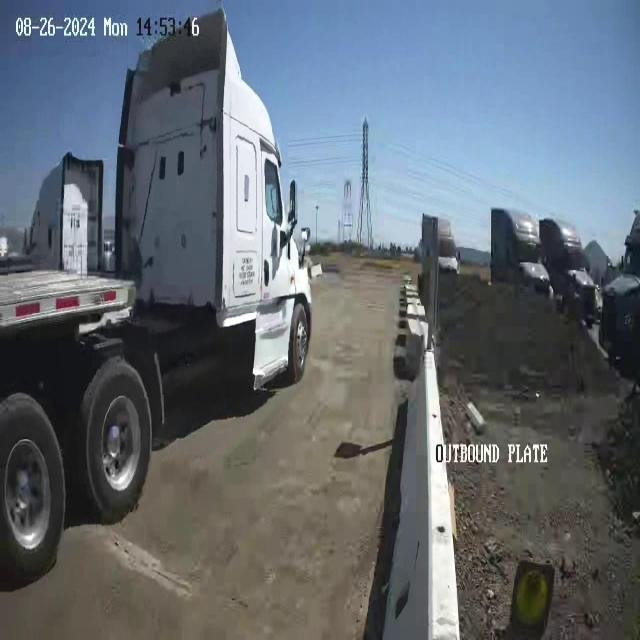BOBTAIL: (1, 6, 314, 586)
